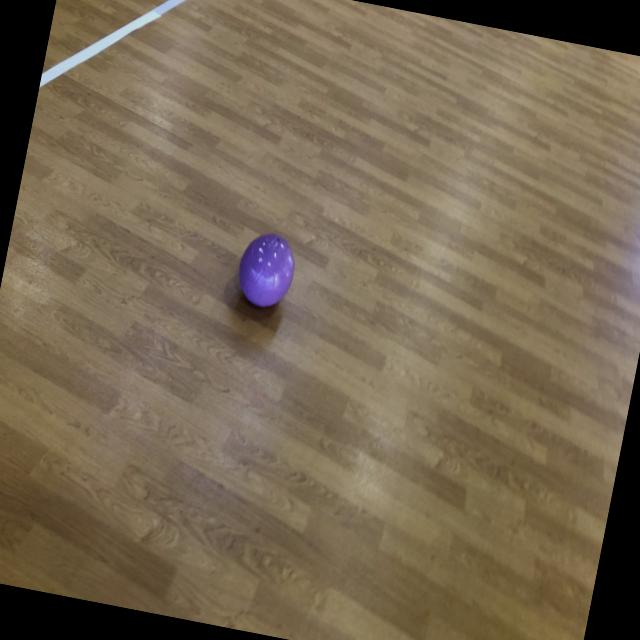purple_ball: (233, 230, 300, 310)
